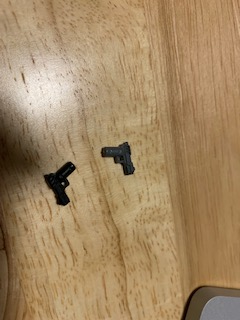pistol: (43, 161, 81, 205), (99, 141, 138, 177)
